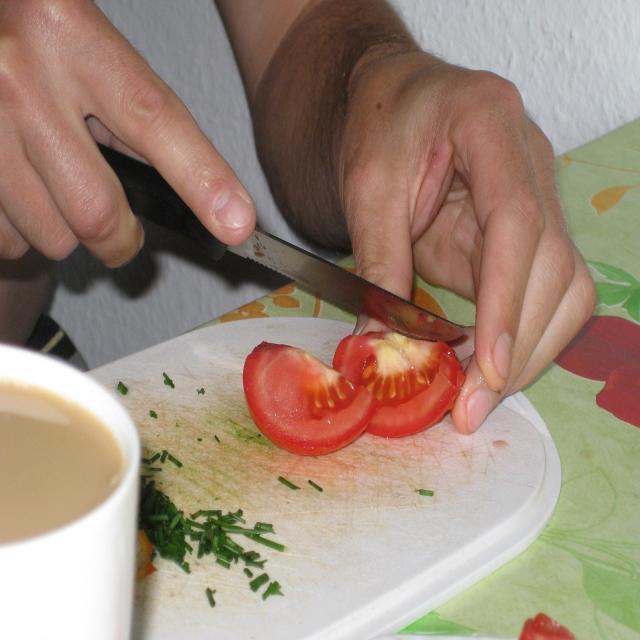Knife: (102, 147, 466, 341)
